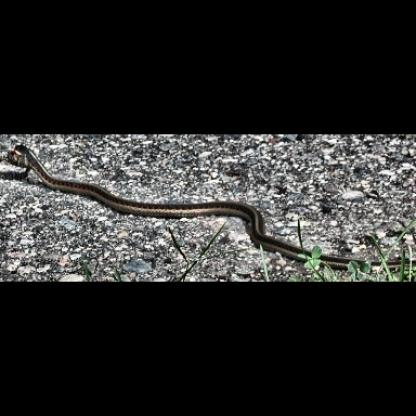Snake: (9, 140, 272, 248)
